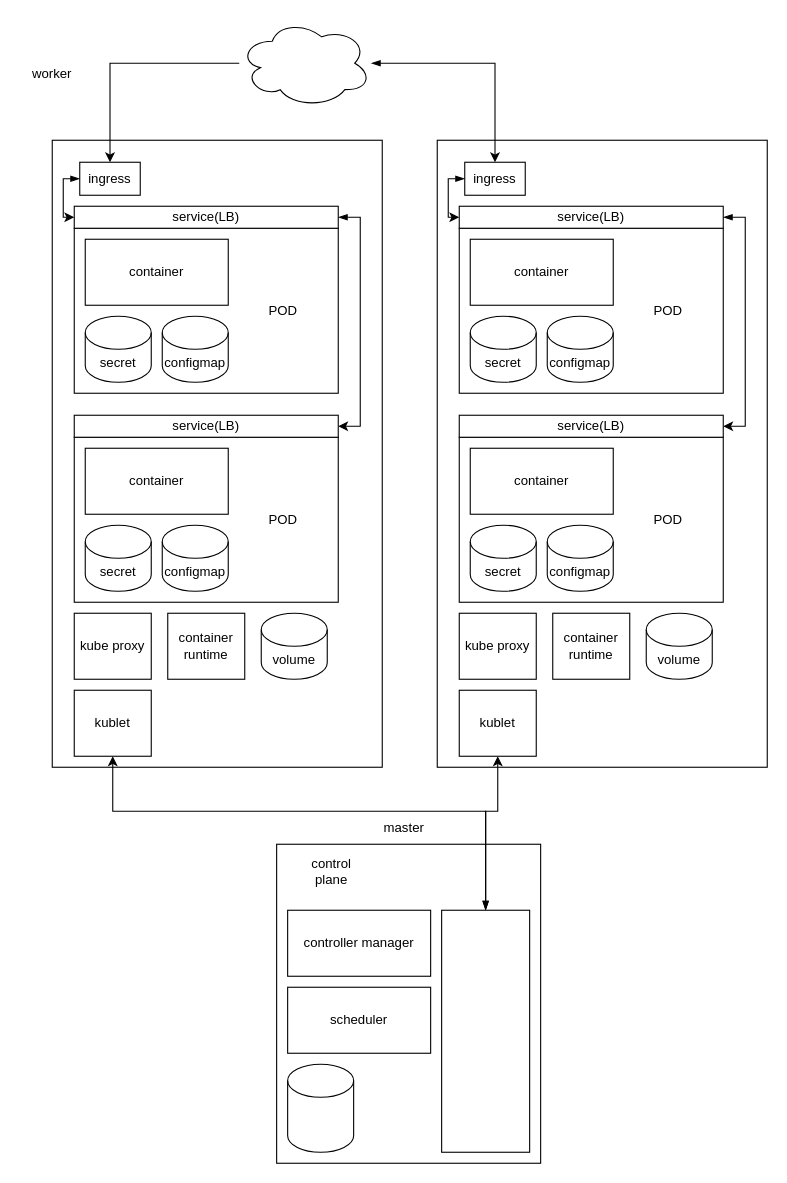
Some shapes in this 787 by 1183 pixel diagram are drawn without their labels. The shapes that lost their labels are listed below. From the top down, each one's box as (x1, y1, x2, y2) in pixels, then its label:
(441, 909, 530, 1152): api server
(287, 1063, 354, 1152): etcd
